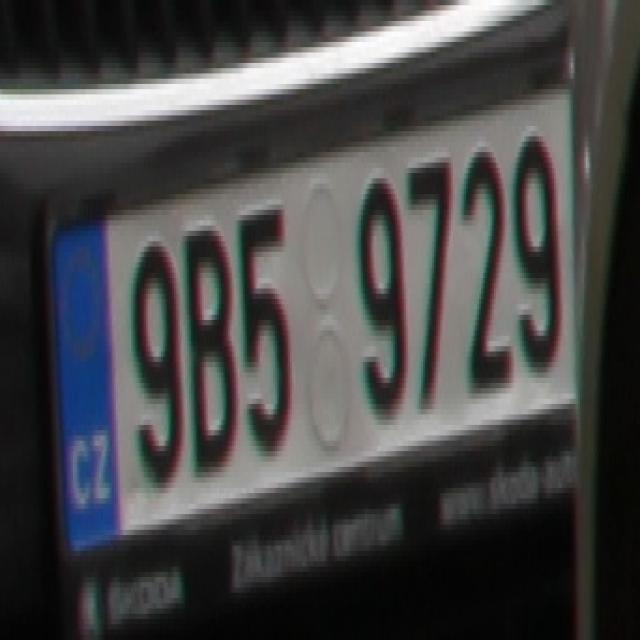2: (461, 142, 508, 394)
5: (239, 189, 292, 446)
7: (406, 152, 453, 409)
9: (129, 236, 184, 483), (357, 173, 408, 420), (511, 126, 562, 362)
B: (181, 220, 234, 472)
